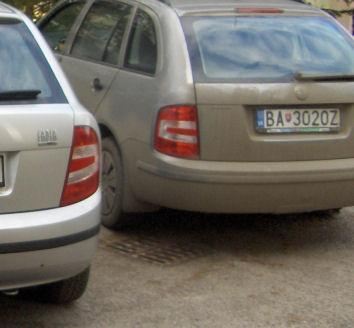placa de veiculo: (251, 103, 344, 143)
